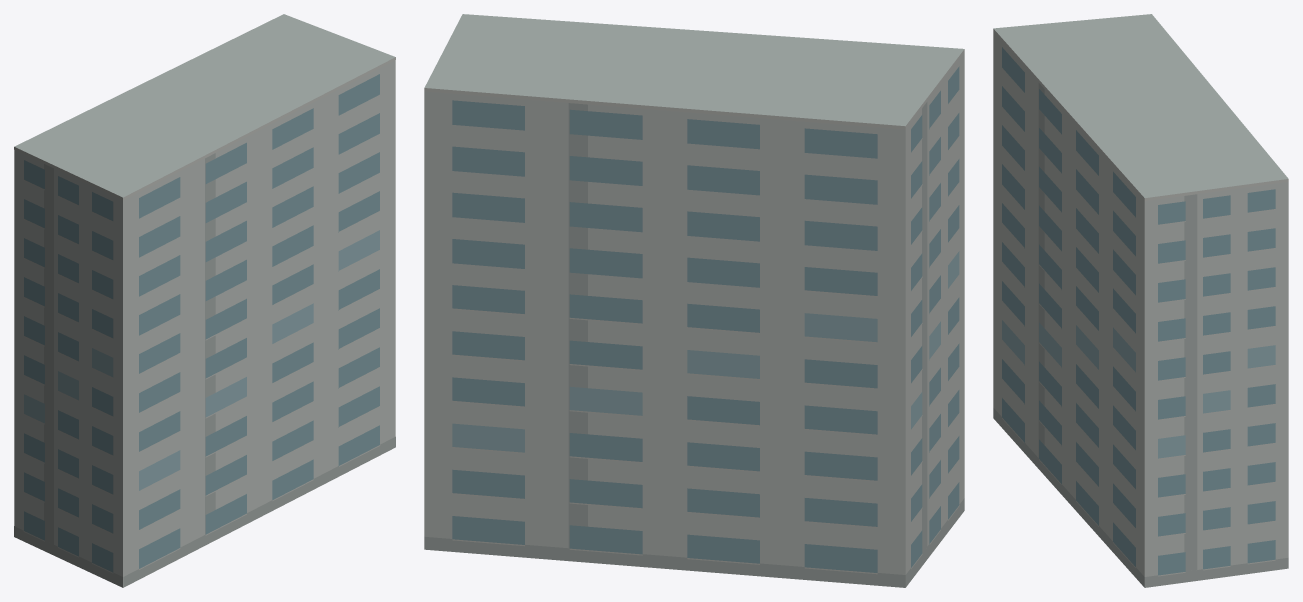
The model's file is residential-938803ed-f300-4b48-830f-9b065185037c.glb.
3 renders of one model, left to right at view 1: azimuth 30°, elevation 25°; view 2: azimuth 150°, elevation 25°; view 3: azimuth 270°, elevation 25°, orthographic. The views are drawn at different scales.
Parts seen in each view (by area): view 1: residential-938803ed-f300-4b48-830f-9b065185037c.tmp; view 2: residential-938803ed-f300-4b48-830f-9b065185037c.tmp; view 3: residential-938803ed-f300-4b48-830f-9b065185037c.tmp.
Boxes of the visible parts, x1=… form: residential-938803ed-f300-4b48-830f-9b065185037c.tmp: x1=14, y1=14, x2=395, y2=587; residential-938803ed-f300-4b48-830f-9b065185037c.tmp: x1=424, y1=14, x2=964, y2=587; residential-938803ed-f300-4b48-830f-9b065185037c.tmp: x1=993, y1=14, x2=1288, y2=587.
Bounding box in the file's own units: 31.43 × 31 × 21.31.
